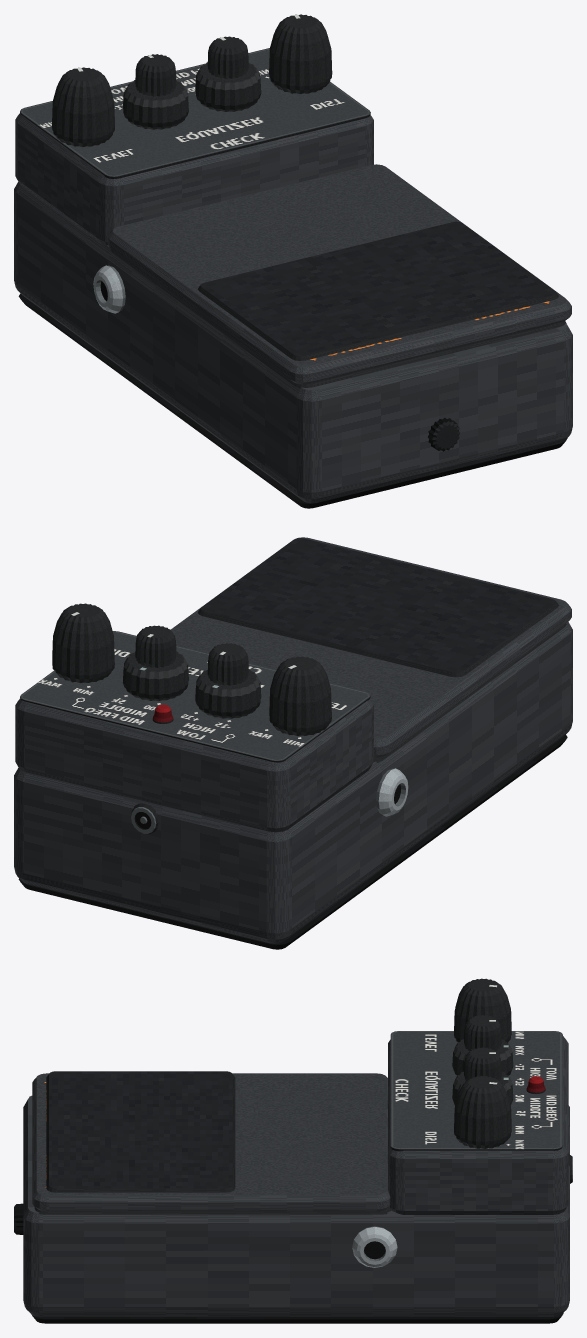
Rendered from inventory.obj.
3 views of the same model, one above another, from view 1: azimuth 30°, elevation 25°; view 2: azimuth 150°, elevation 25°; view 3: azimuth 270°, elevation 25° (orthographic). The views are drawn at different scales.
Visible parts, largest first — view 1: pedal; view 2: pedal; view 3: pedal.
Boxes of the visible parts, x1=… form: pedal: x1=14, y1=14, x2=572, y2=508; pedal: x1=14, y1=537, x2=572, y2=949; pedal: x1=14, y1=978, x2=572, y2=1323.
Size of the model in its own units: 0.5305 by 0.429 by 0.9381.
